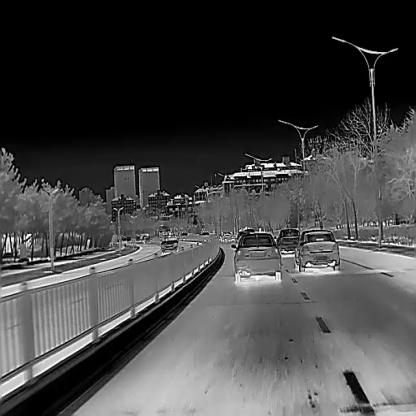car: (231, 231, 281, 282), (293, 228, 339, 272), (274, 228, 300, 254), (160, 233, 180, 253), (234, 228, 254, 244), (219, 232, 230, 242)
